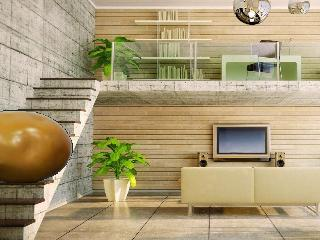potato: (0, 110, 73, 182)
